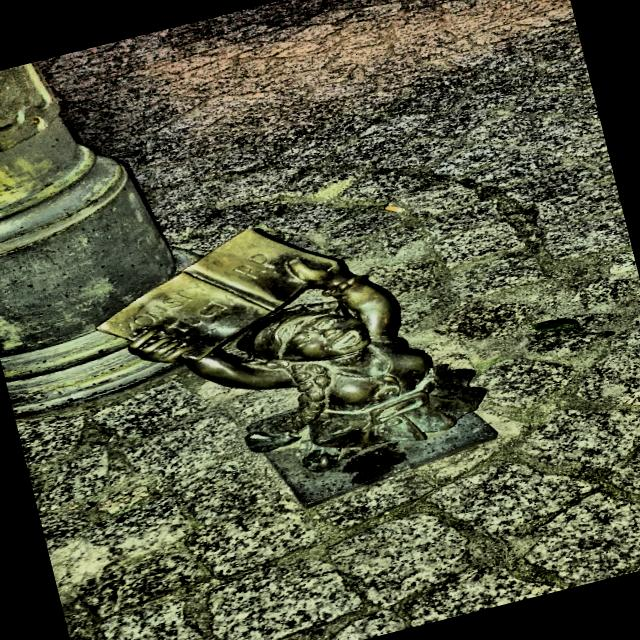Demokracja: (98, 229, 496, 506)
